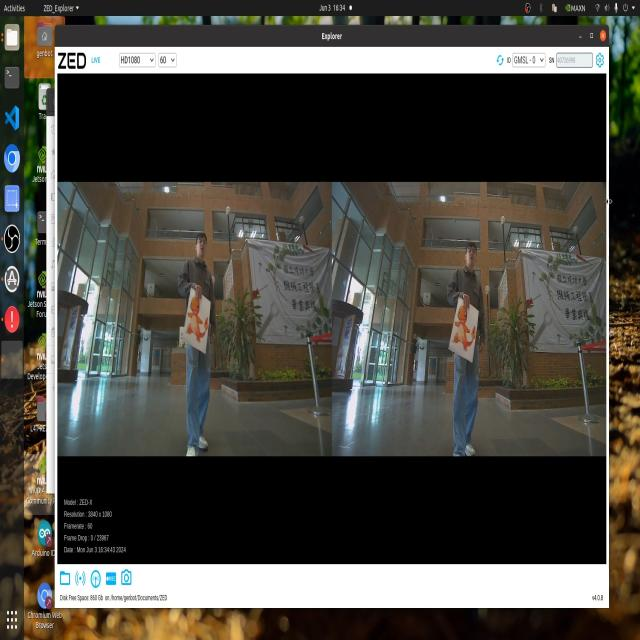red: (444, 301, 474, 358), (180, 294, 208, 345)
